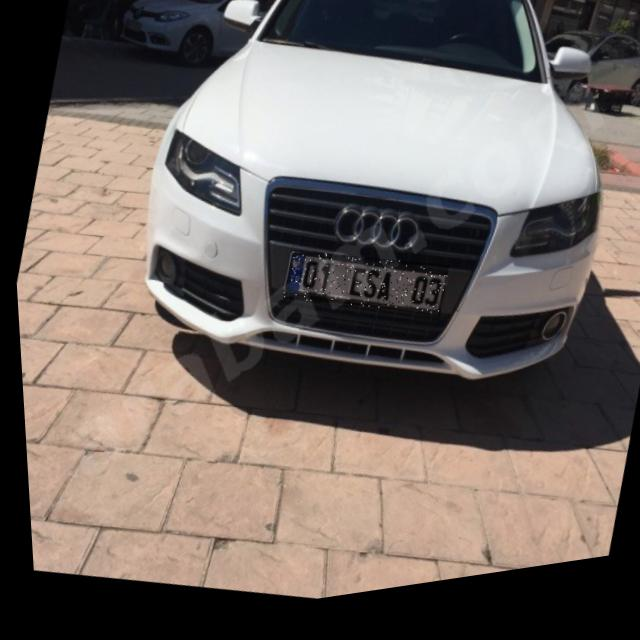license_plate: (276, 240, 446, 344)
